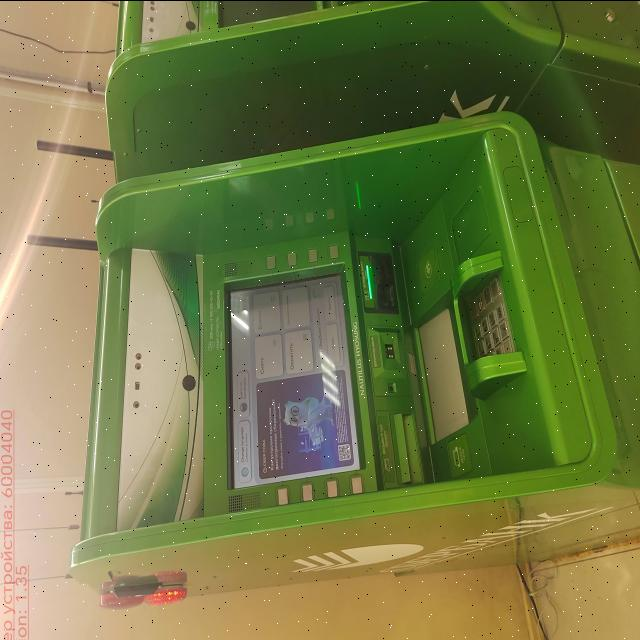bank: (75, 114, 640, 604), (109, 0, 640, 189)
